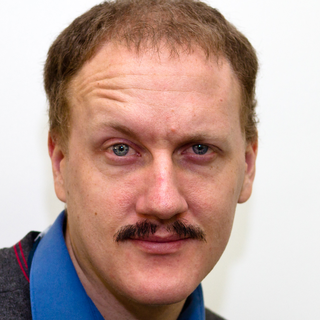eye: (93, 132, 147, 169), (169, 138, 225, 167)
